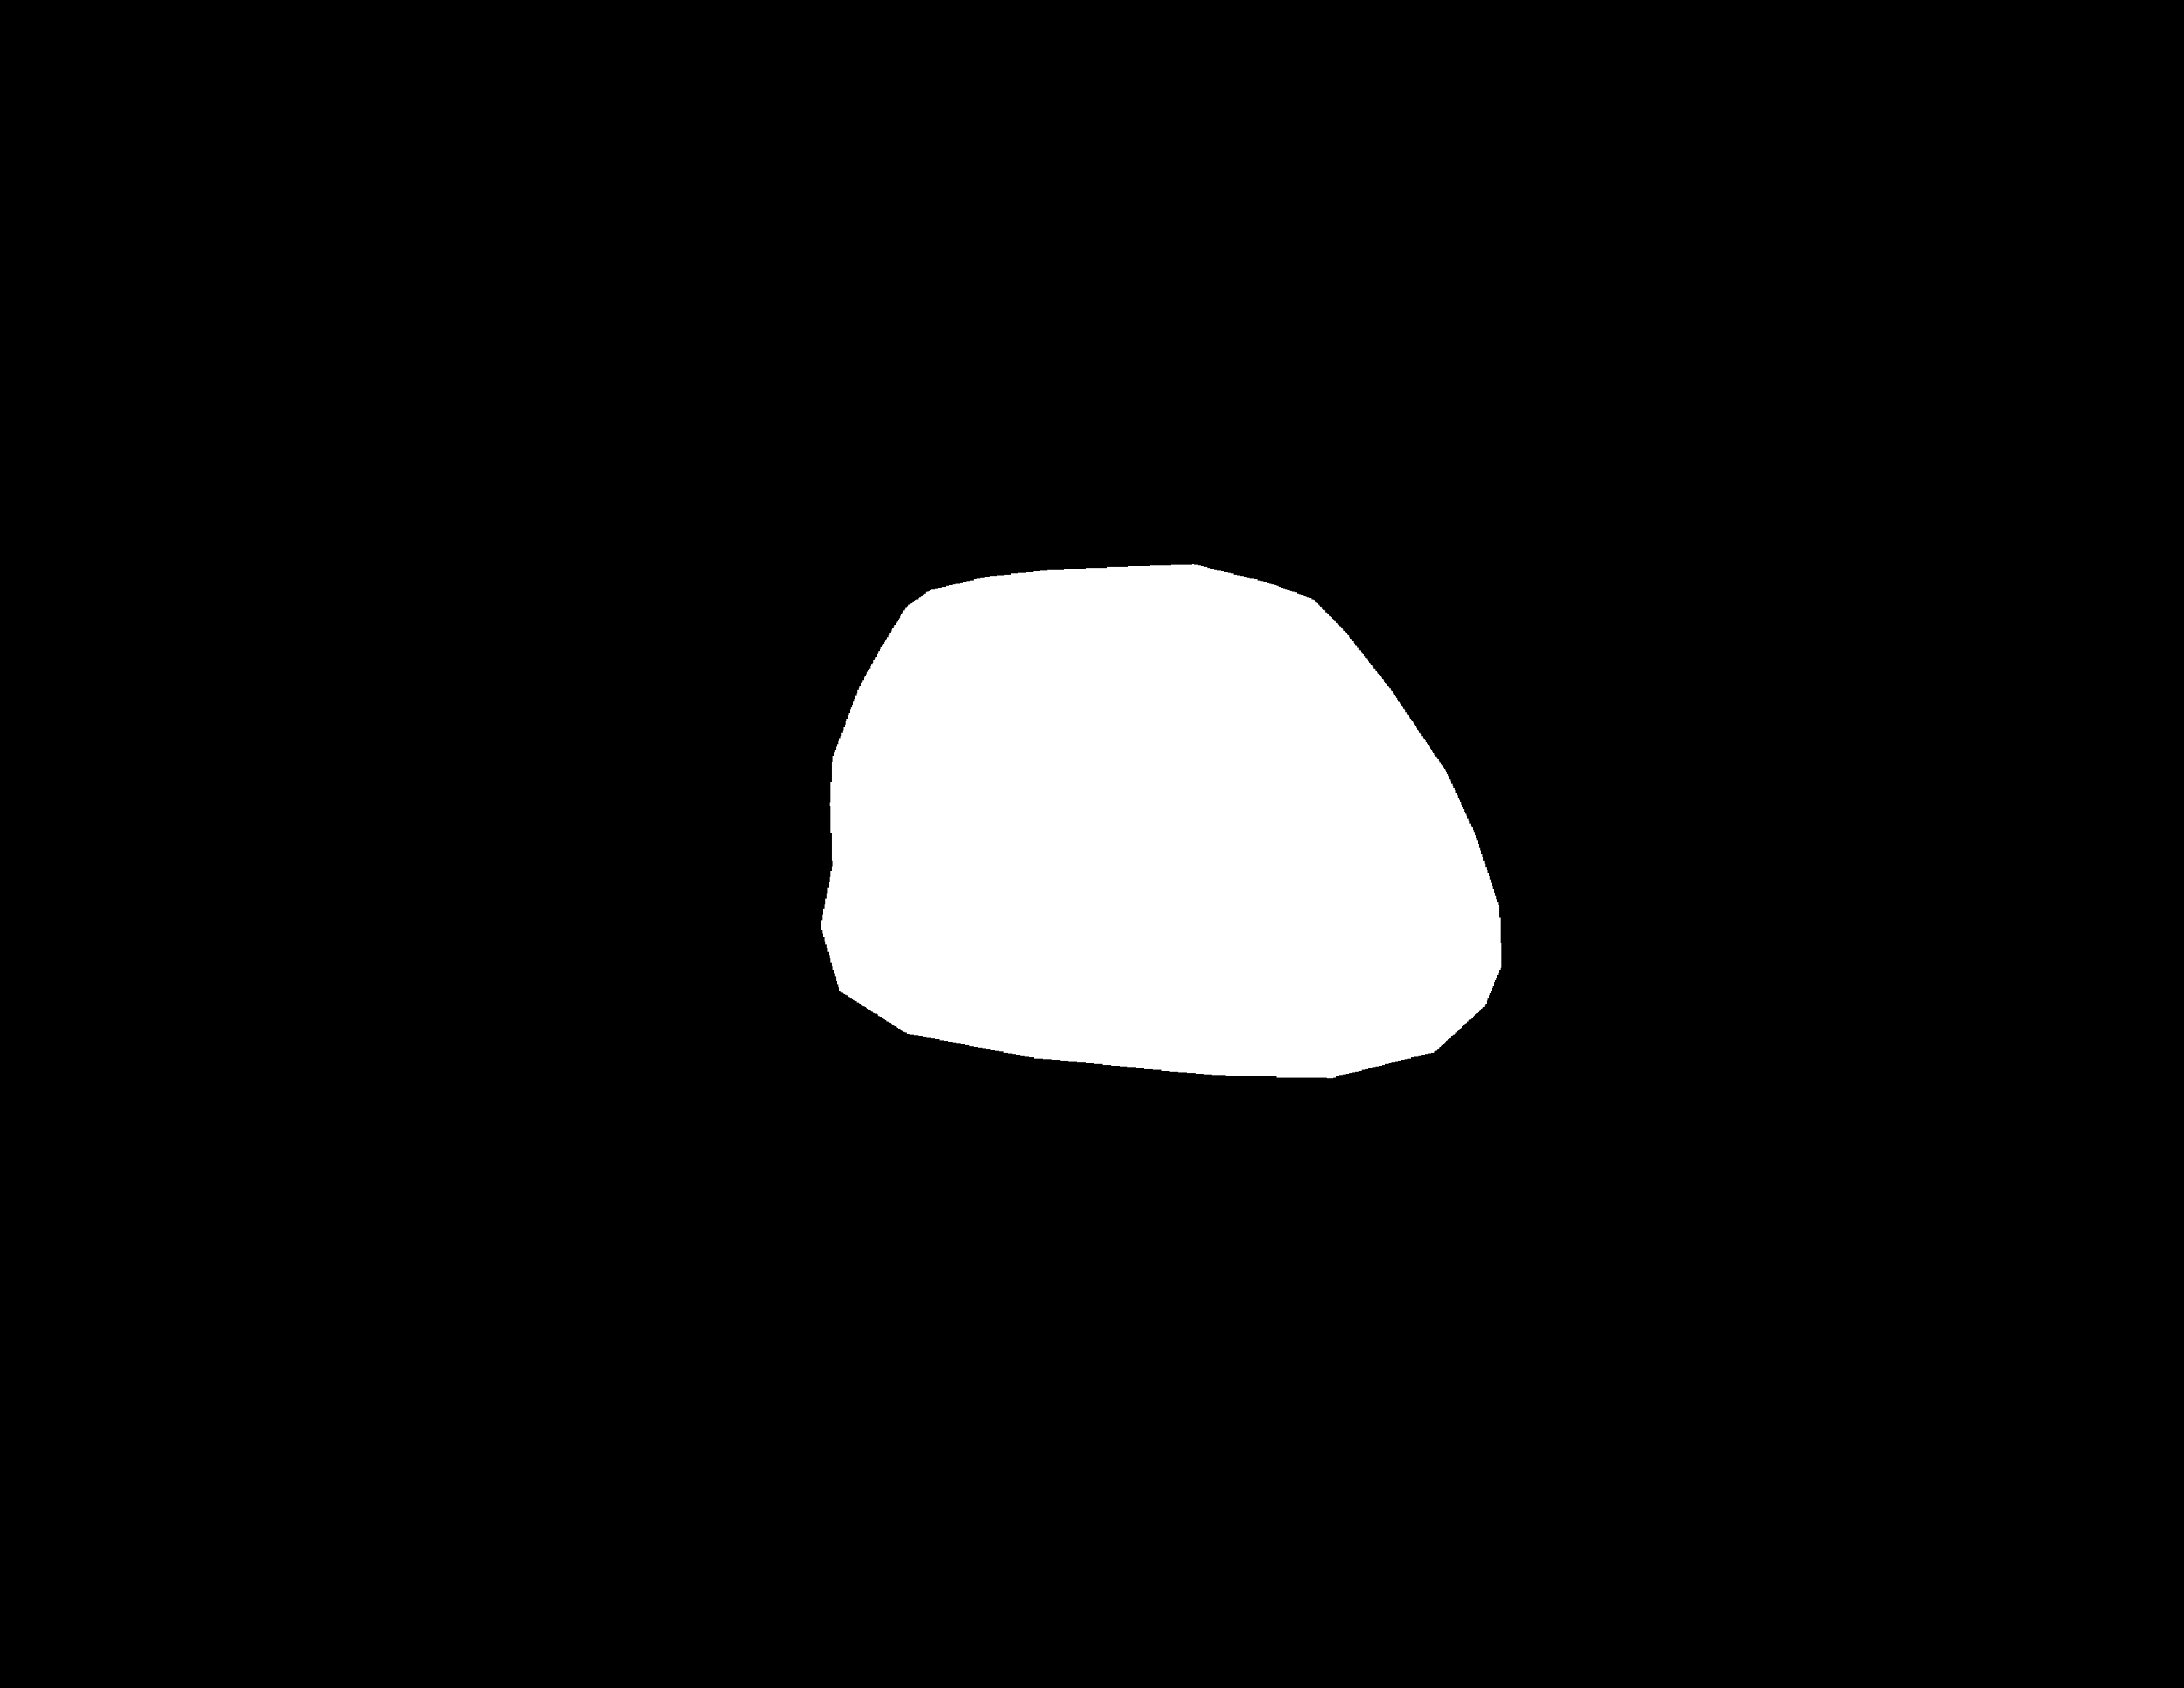heart: (819, 587, 1496, 1149)
left_lung: (191, 4, 968, 1270)
right_lung: (1106, 0, 1851, 1369)
